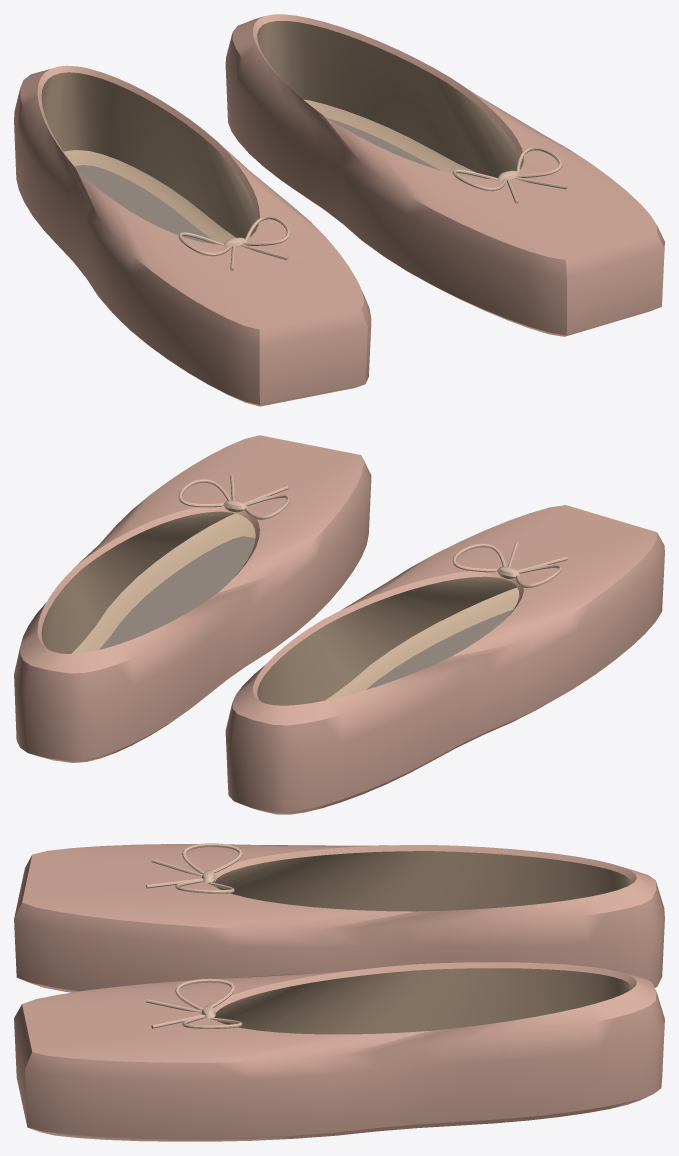
3 renders of one model, top to bottom at view 1: azimuth 30°, elevation 25°; view 2: azimuth 150°, elevation 25°; view 3: azimuth 270°, elevation 25°, orthographic.
Visible parts, largest first — view 1: R_hollow_satin_shoe_with_lining, L_hollow_satin_shoe_with_lining, L_insole, R_insole; view 2: L_hollow_satin_shoe_with_lining, R_hollow_satin_shoe_with_lining, R_insole, L_insole; view 3: R_hollow_satin_shoe_with_lining, L_hollow_satin_shoe_with_lining, L_drawstring_loop_left, R_drawstring_loop_left, L_drawstring_loop_right, R_drawstring_loop_right.
Boxes of the visible parts, x1,y1,x2,y2 form: R_hollow_satin_shoe_with_lining: (225,14,664,336); L_hollow_satin_shoe_with_lining: (14,65,371,406); L_insole: (75,165,212,243); R_insole: (328,118,440,170); L_hollow_satin_shoe_with_lining: (225,505,664,814); R_hollow_satin_shoe_with_lining: (14,435,371,762); R_insole: (99,536,255,649); L_insole: (366,610,512,689); R_hollow_satin_shoe_with_lining: (14,962,664,1141); L_hollow_satin_shoe_with_lining: (14,844,664,992); L_drawstring_loop_left: (182,843,242,874); R_drawstring_loop_left: (175,978,234,1010); L_drawstring_loop_right: (175,879,234,893); R_drawstring_loop_right: (182,1015,242,1028).
Bounding box in the file's own units: 0.1879 × 0.043 × 0.2302.
